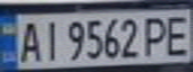2: (118, 15, 142, 58)
5: (84, 16, 106, 61)
6: (103, 15, 124, 60)
9: (63, 17, 87, 61)
A: (15, 18, 45, 63)
E: (160, 11, 193, 56)
I: (36, 17, 63, 62)
P: (139, 12, 172, 57)
